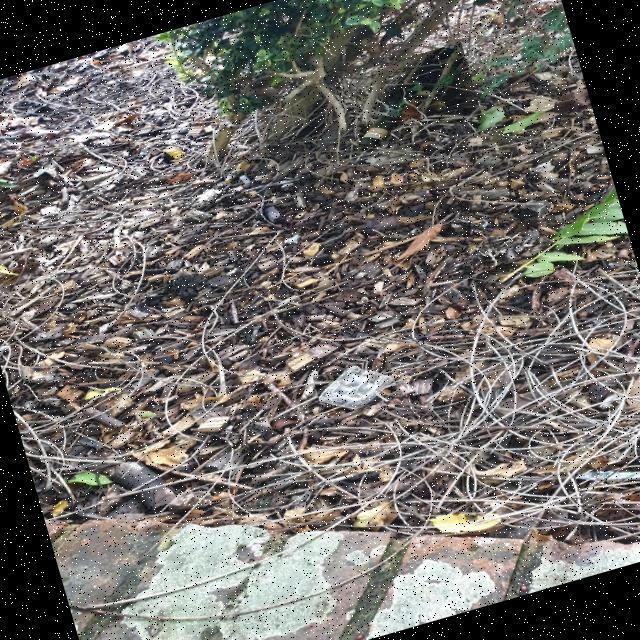Disposable food container: (319, 364, 393, 409)
Glass bottle: (358, 47, 464, 148)
Plastic film: (576, 470, 640, 480)
